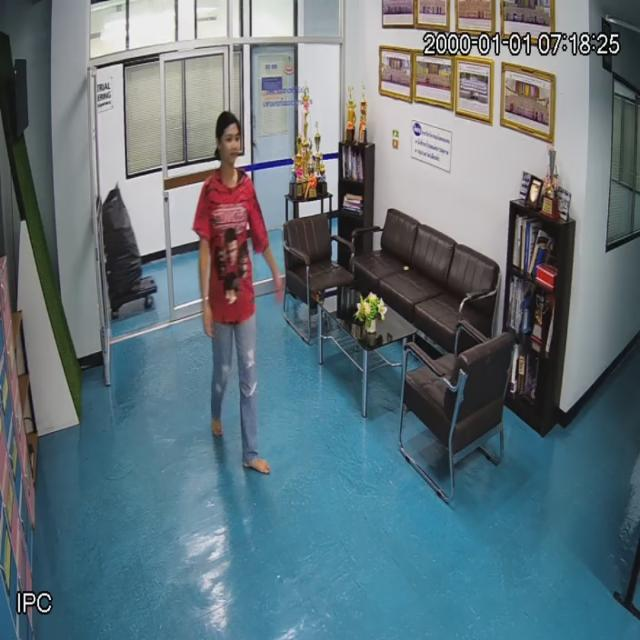normal: (197, 101, 277, 478)
